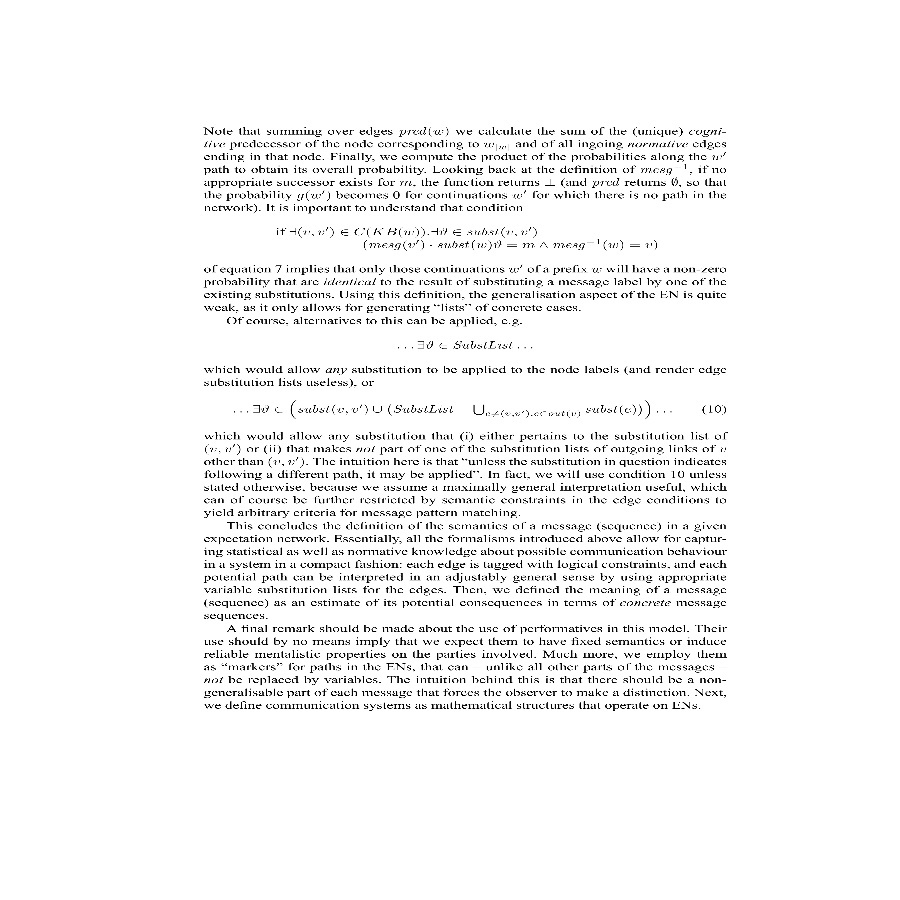eq: (268, 224, 659, 253), (228, 399, 687, 421), (393, 334, 539, 355)
